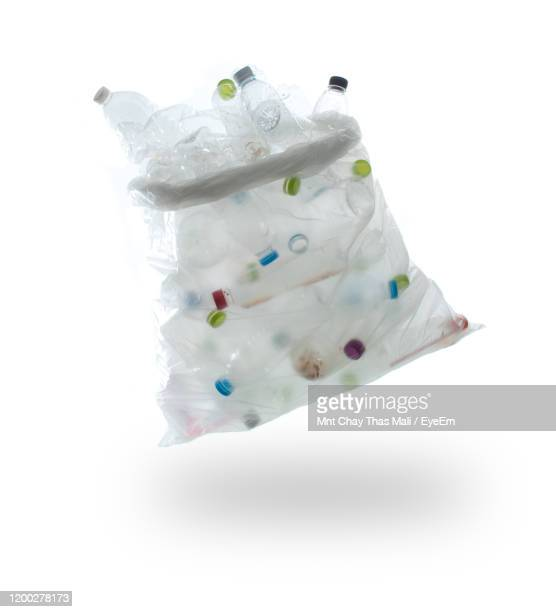plastic_bag: (69, 57, 511, 462)
